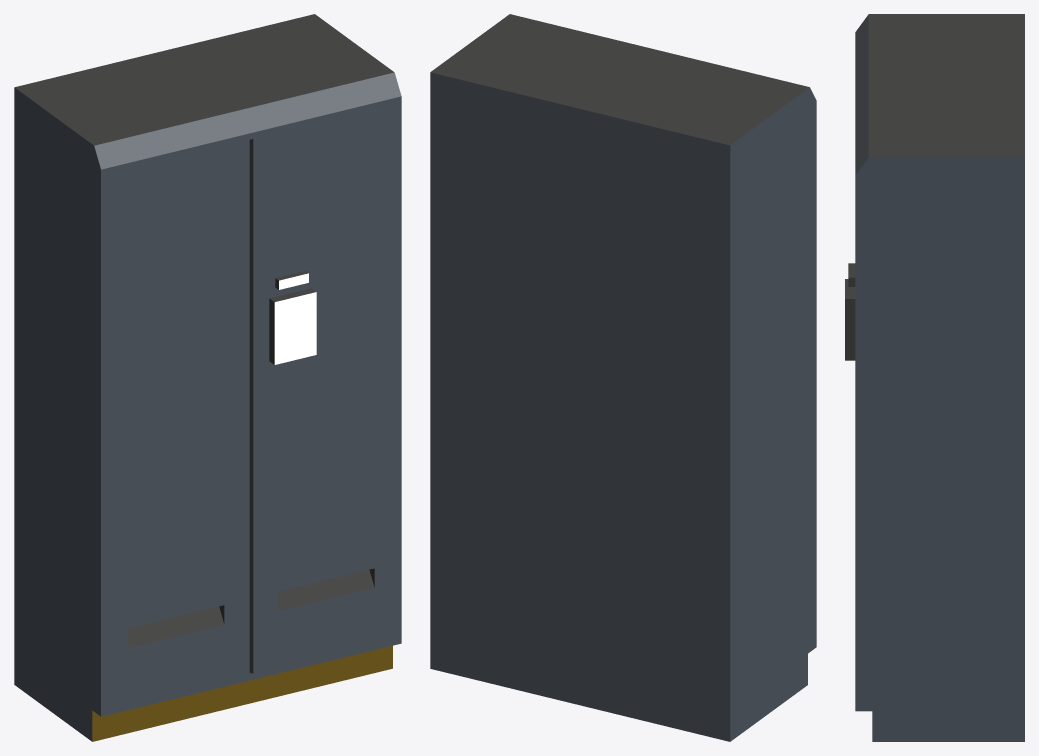
The model's file is ammo_cabinet.glb.
The picture shows the model from 3 angles, left to right: view 1: azimuth 30°, elevation 25°; view 2: azimuth 150°, elevation 25°; view 3: azimuth 270°, elevation 25°; orthographic projection. The views are drawn at different scales.
Parts seen in each view (by area): view 1: ammo_cabinet; view 2: ammo_cabinet; view 3: ammo_cabinet.
Boxes of the visible parts, box(x1,y1,x2,y2) form: ammo_cabinet: box(14, 14, 401, 741); ammo_cabinet: box(430, 14, 816, 741); ammo_cabinet: box(845, 14, 1024, 741).
Bounding box in the file's own units: 1 × 1.9 × 0.53.
